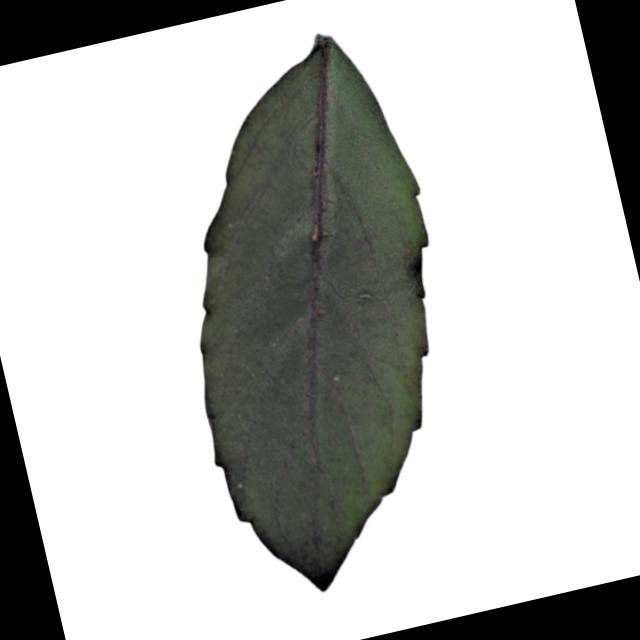tulsi: (124, 14, 506, 612)
